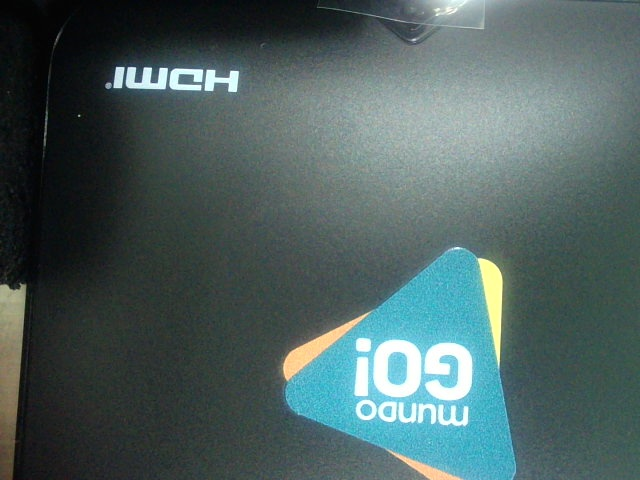AP_IPGMundoGO: (248, 215, 543, 478)
